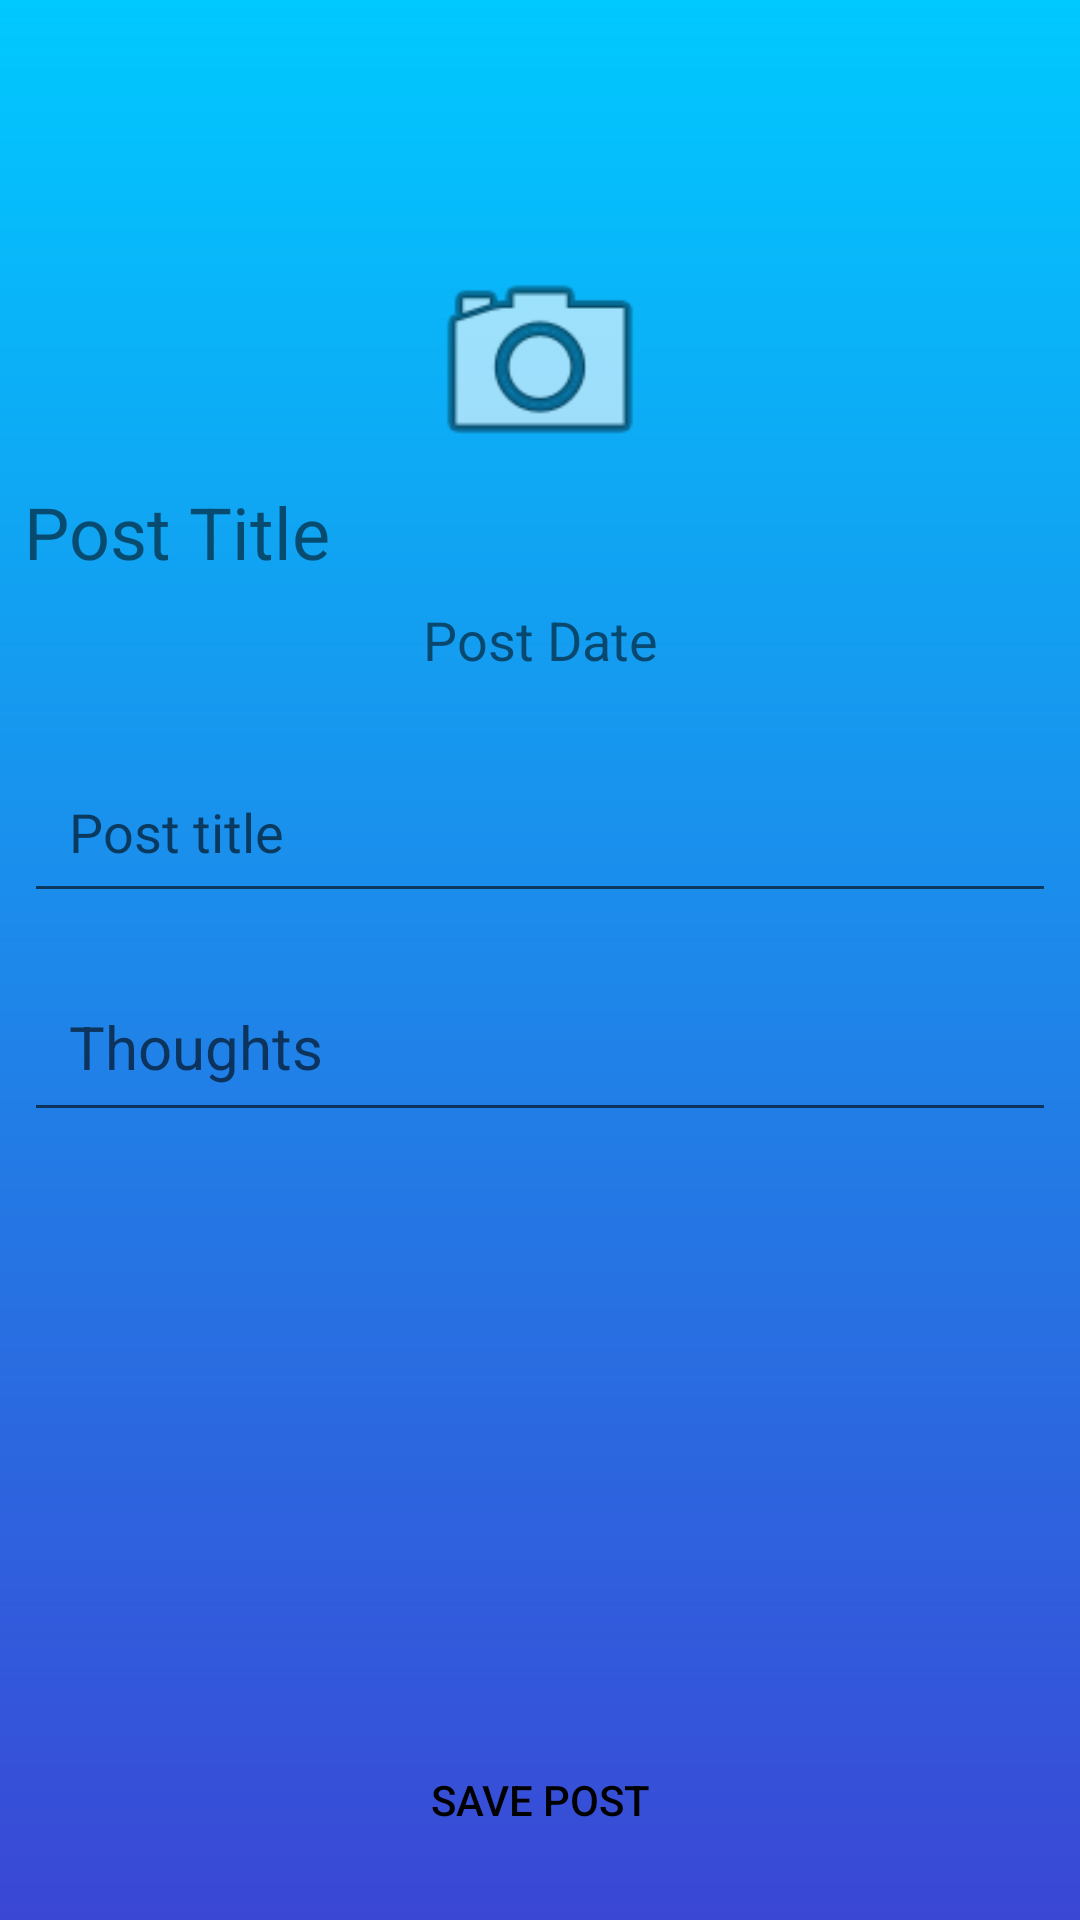

Named icons in this screenshot (1080x1920) and their bounding boxes, (x1, y1, x2, y2):
camera: (447, 285, 633, 433)
